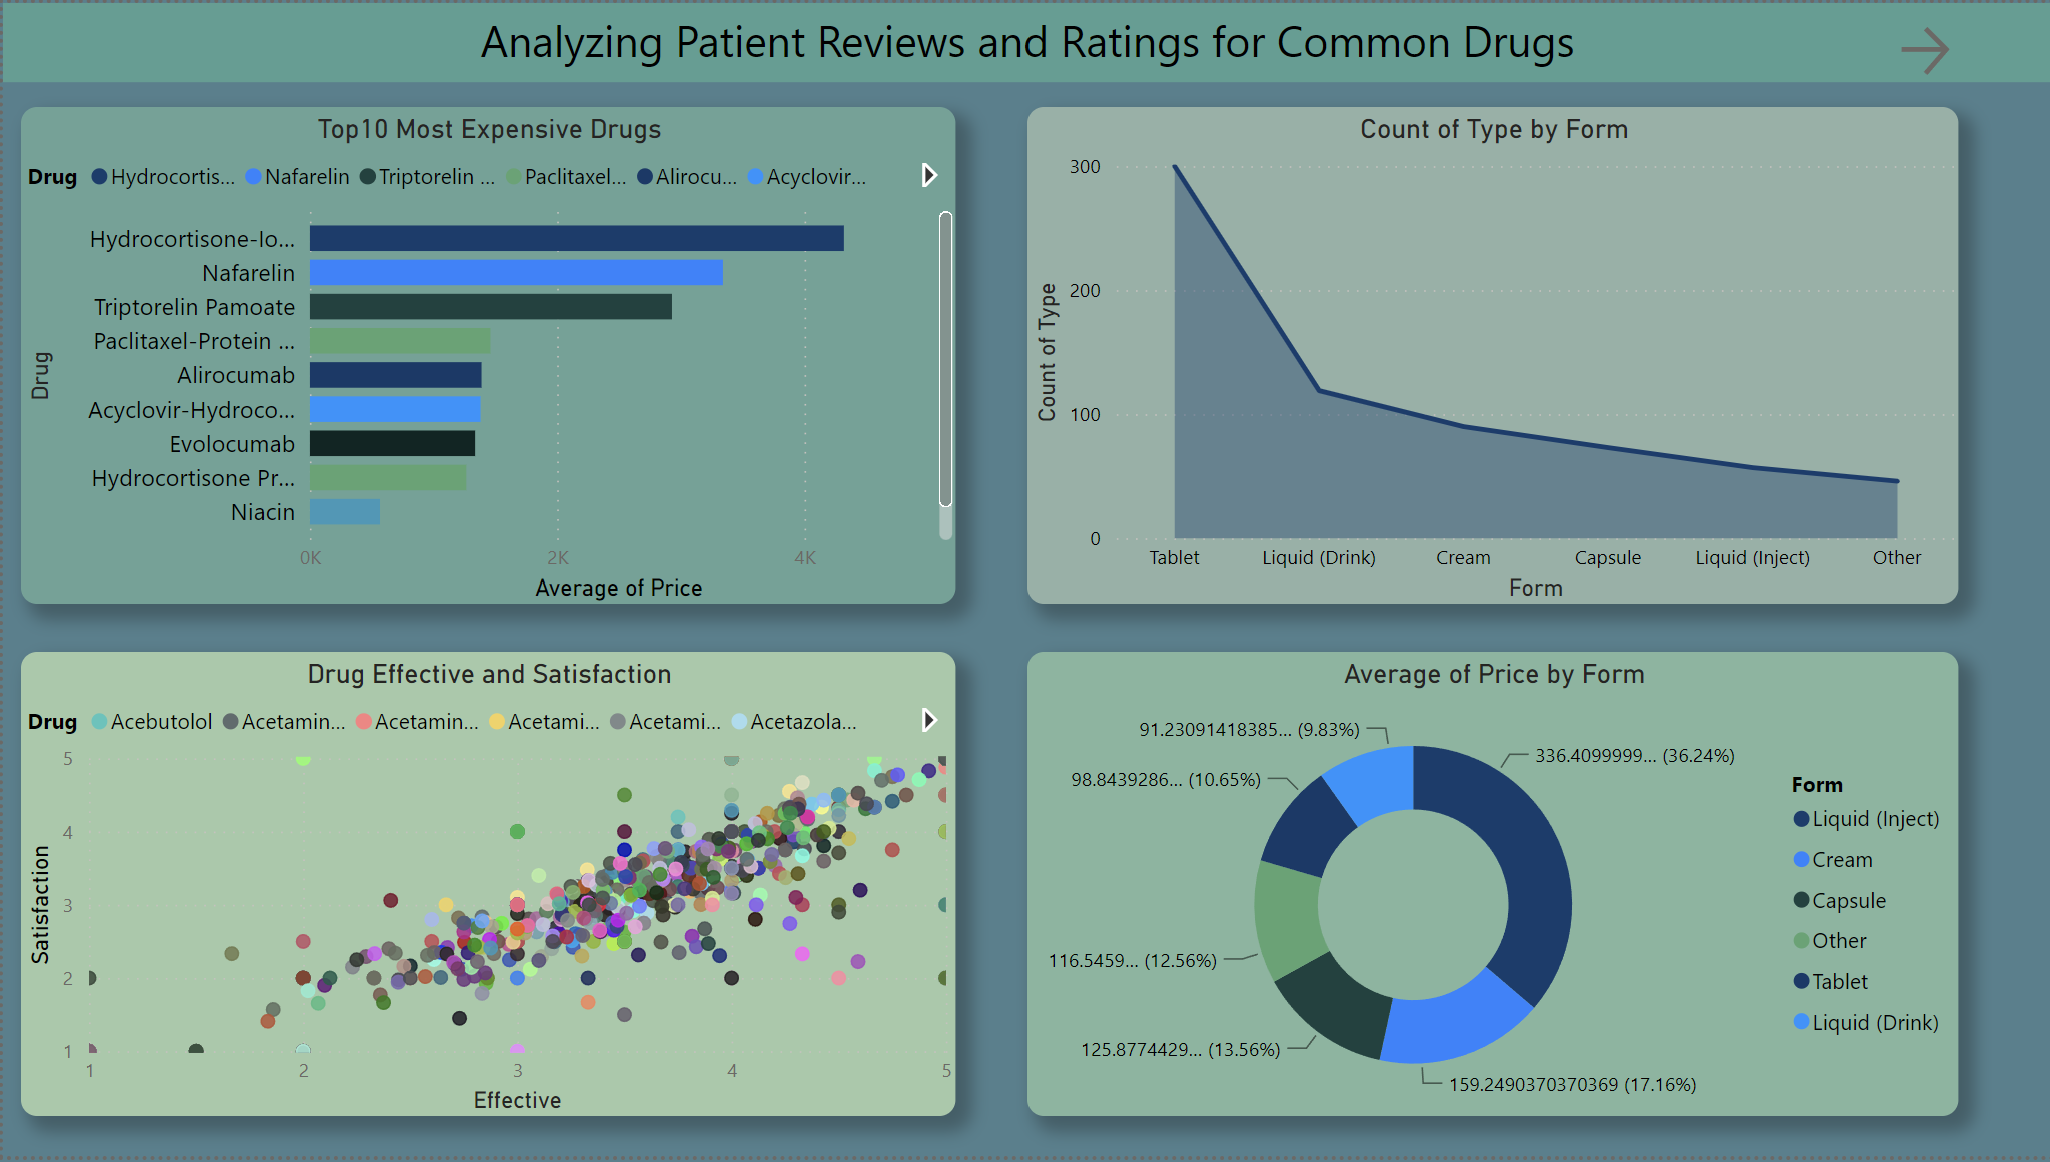

The dashboard page shown, as its layout file describes it:
{"tool":"powerbi","page":{"name":"Page 2","canvas":[1280,720],"ordinal":0},"visuals":[{"type":"barChart","title":"Top10 Most Expensive Drugs","fields":{"Category":["Drug_clean.Drug"],"Y":["Avg(Drug_clean.Price)"],"Series":["Drug_clean.Drug"]},"box":[11.2,65,583.8,310],"z":0},{"type":"donutChart","title":"Average of Price by Form","fields":{"Category":["Drug_clean.Form"],"Y":["Avg(Drug_clean.Price)"]},"box":[640,405,581.2,290],"z":1000},{"type":"scatterChart","title":"Drug Effective and Satisfaction","fields":{"Y":["Drug_clean.Satisfaction"],"X":["Drug_clean.Effective"],"Series":["Drug_clean.Drug"]},"box":[11.2,405,583.8,290],"z":2000},{"type":"areaChart","title":"Count of Type by Form","fields":{"Category":["Drug_clean.Form"],"Y":["CountNonNull(Drug_clean.Type)"]},"box":[640,65,581.2,310],"z":3000},{"type":"textbox","box":[0,0,1280,49.7],"z":4000},{"type":"actionButton","box":[1180,10,100,40],"z":5000}]}

Visuals, with their boxes in screenshot pixels (x1, y1, x2, y2), scaled from the page's 1280x720 canvas onto the 2050x1162 screenshot:
"Top10 Most Expensive Drugs" barChart: select_region(18, 105, 953, 605)
"Average of Price by Form" donutChart: select_region(1025, 654, 1956, 1122)
"Drug Effective and Satisfaction" scatterChart: select_region(18, 654, 953, 1122)
"Count of Type by Form" areaChart: select_region(1025, 105, 1956, 605)
textbox: select_region(0, 0, 2049, 80)
actionButton: select_region(1890, 16, 2049, 81)
